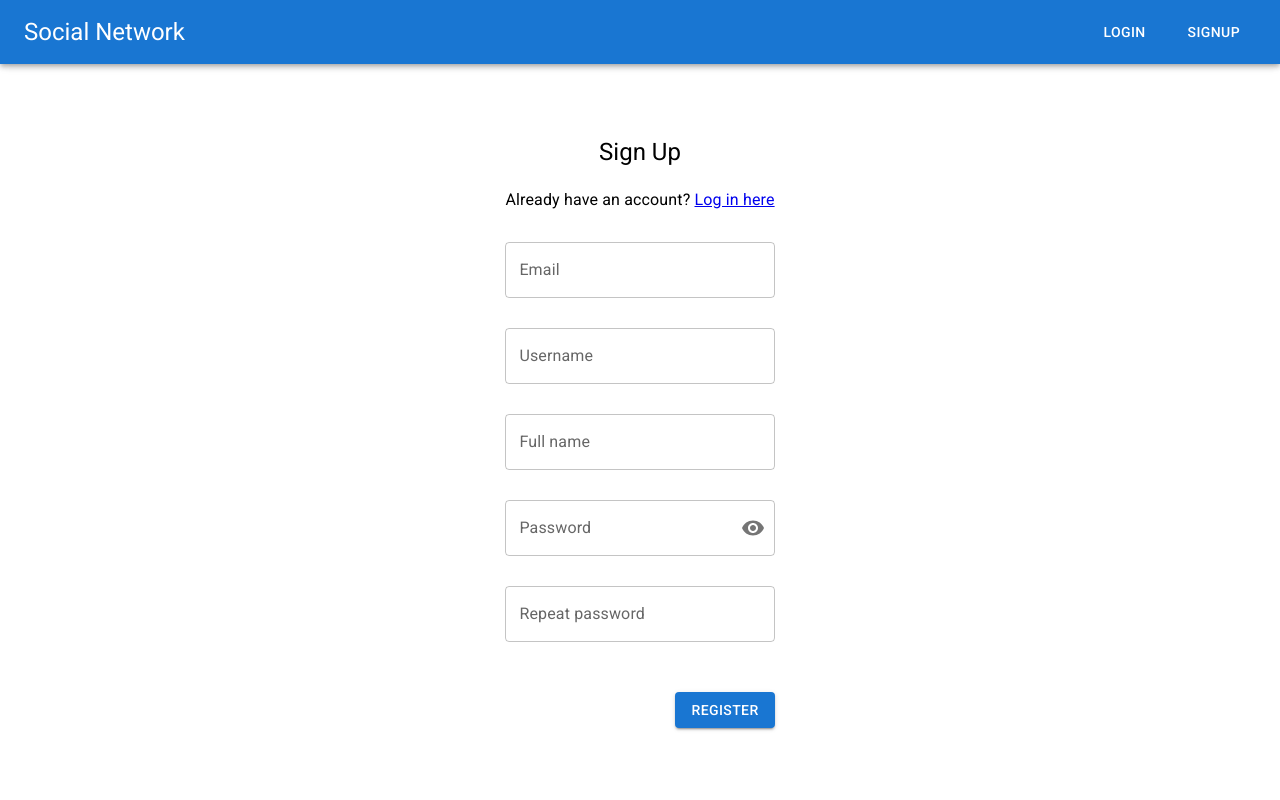
register page form › should delete user from firebase auth if occured error on creating user
The width and height of the screenshot is (1280, 800).
Type "johndoe2@gmail.com" into the field labelled "Email" at [640, 270], box [505,242,775,298]
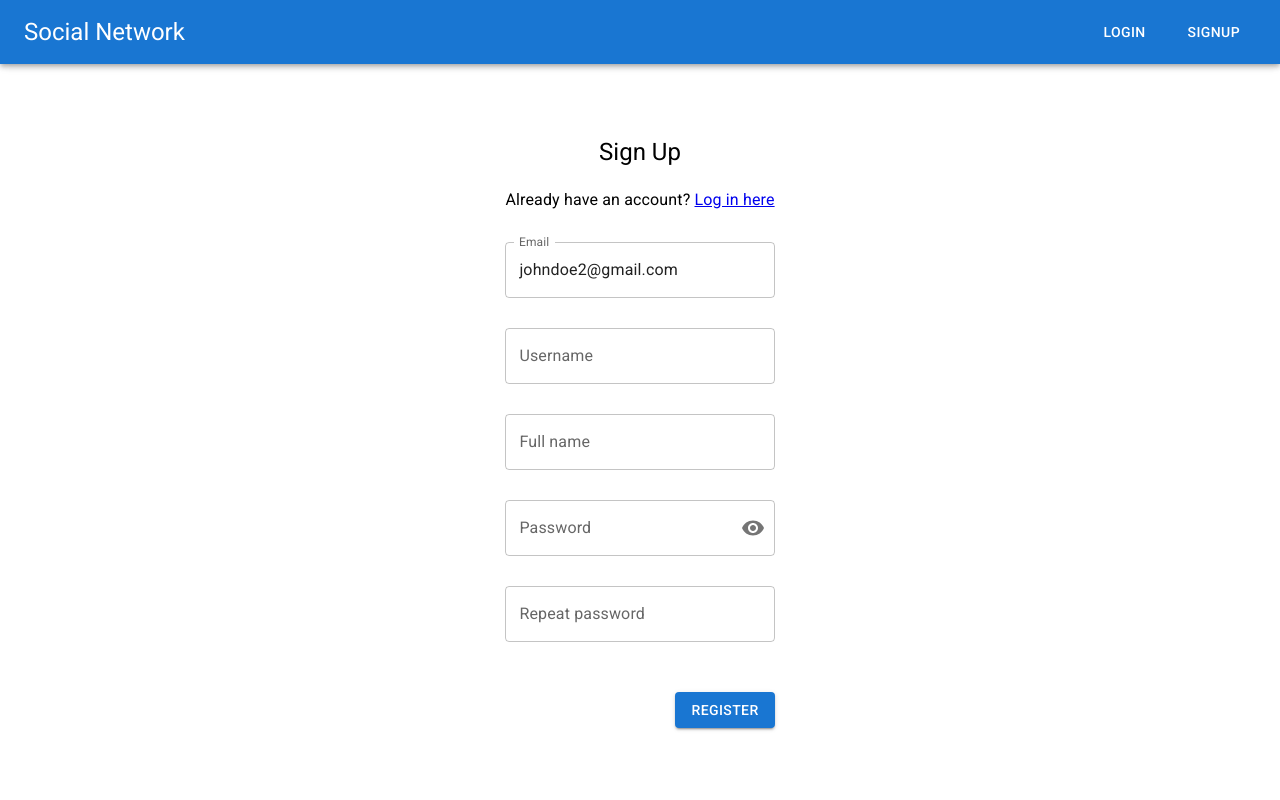
Type "john007" into the field labelled "Username" at [640, 356], box [505,328,775,384]
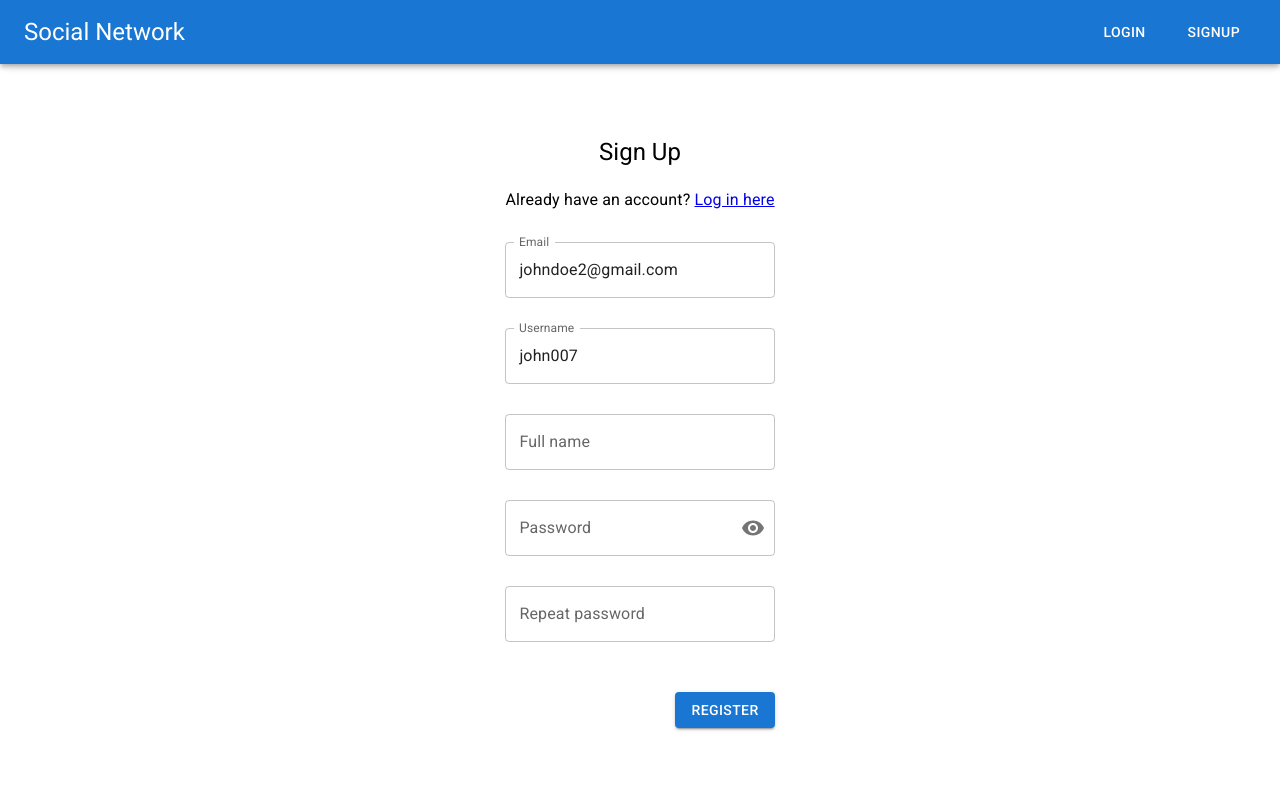
Type "John Doe" into the field labelled "Full name" at [640, 442], box [505,414,775,470]
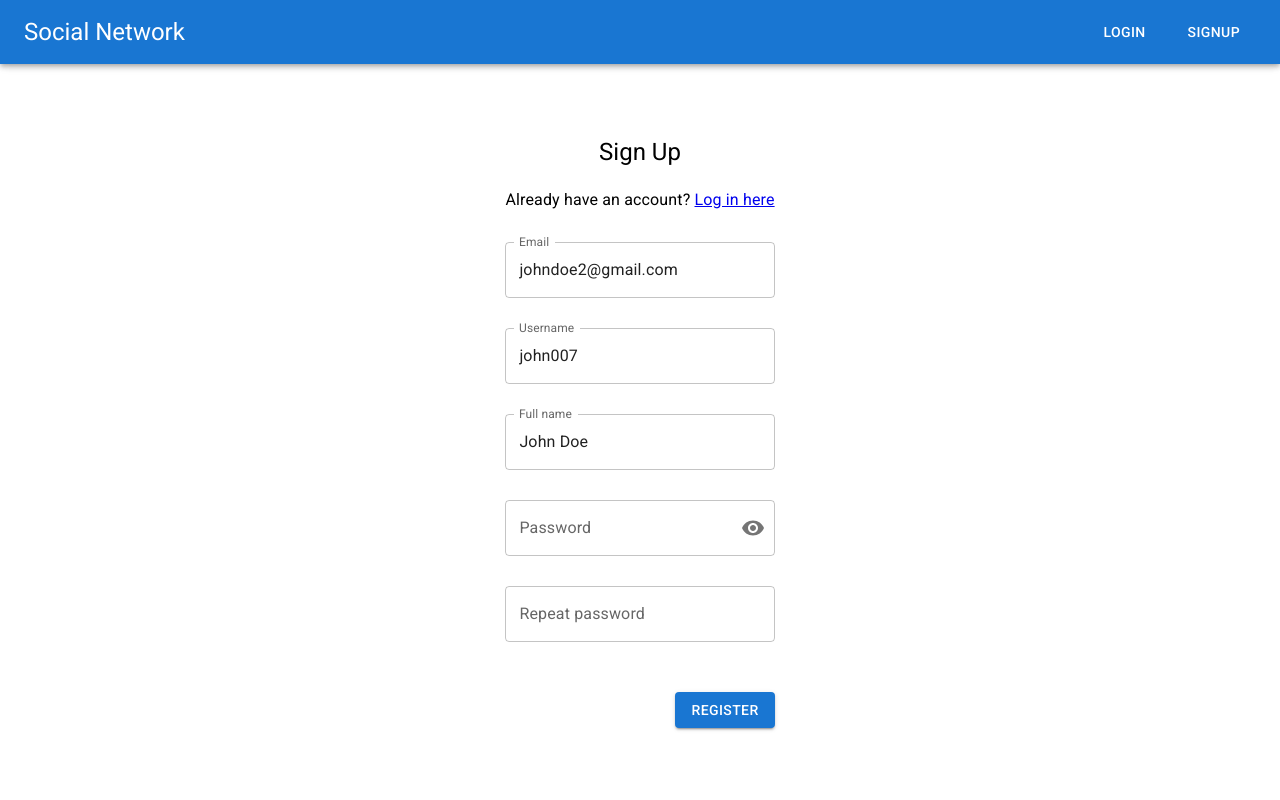
Type "123" into the password field labelled "Password" at [615, 528], box [505,500,725,556]
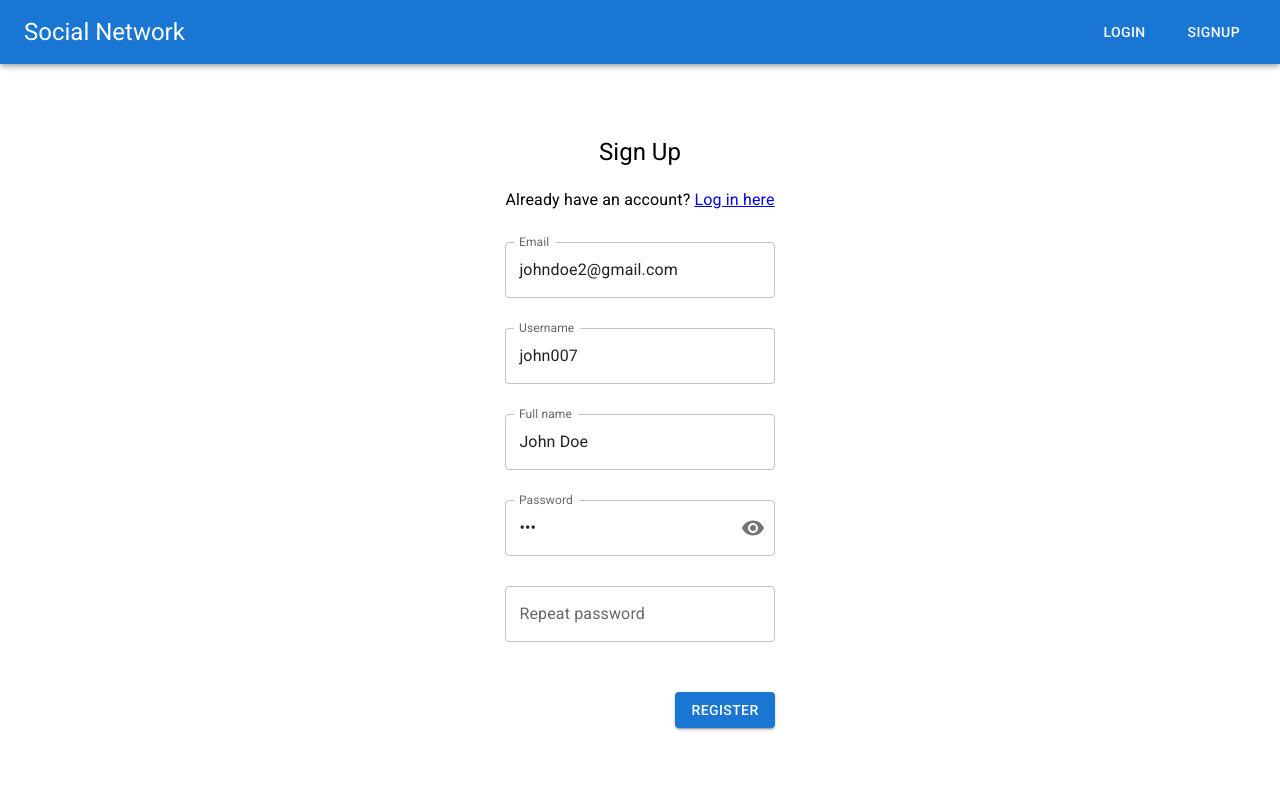
Type "123" into the password field labelled "Repeat password" at [640, 614], box [505,586,775,642]
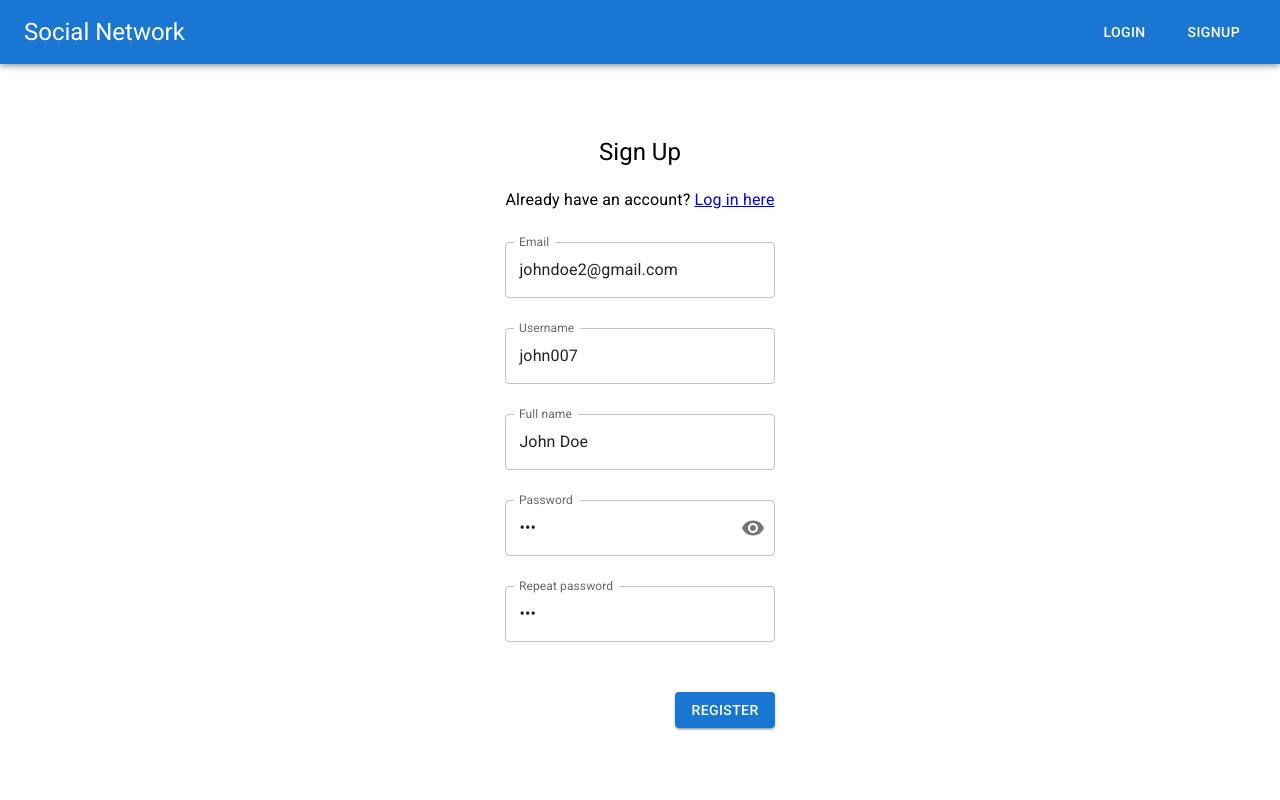
Click the button with test id "submit-btn" at [725, 710], box [676,692,775,728]
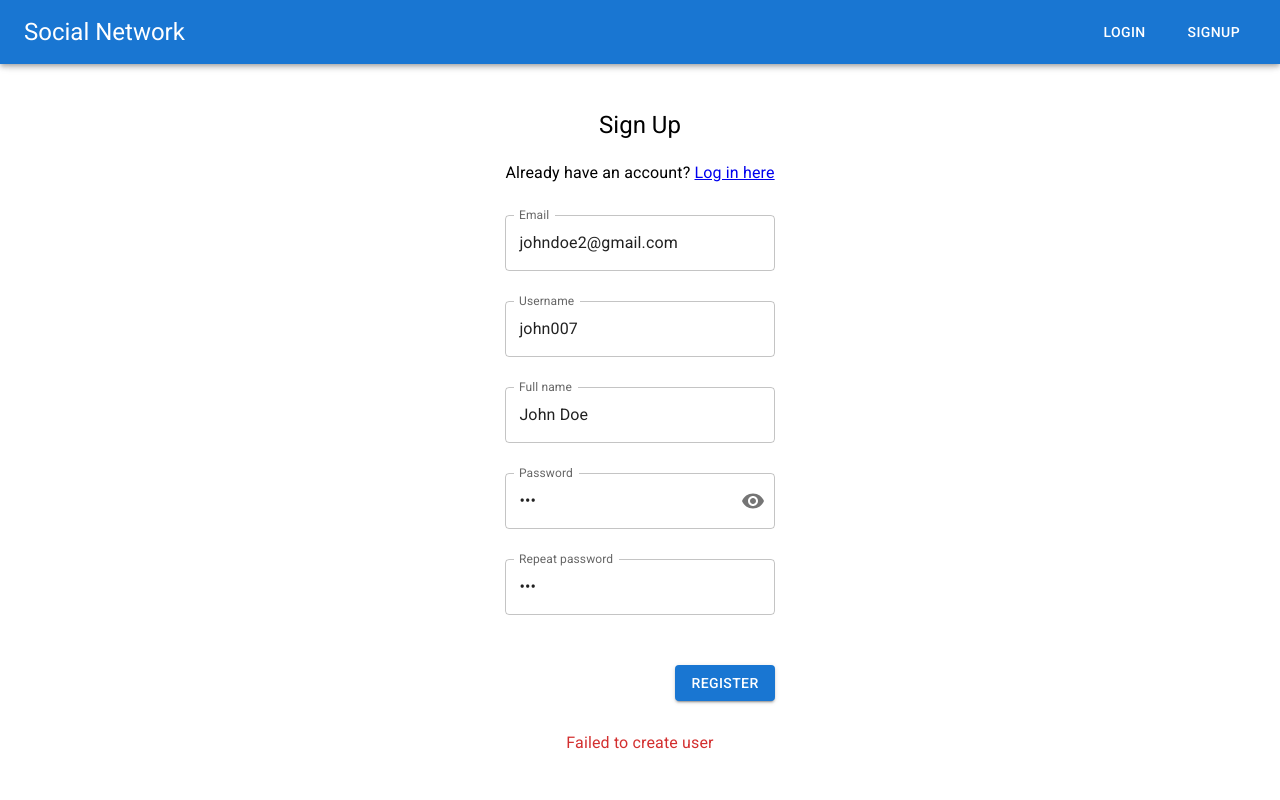
Check: the text with test id "error-txt" reads "Failed to create user", box [566,733,714,752]
